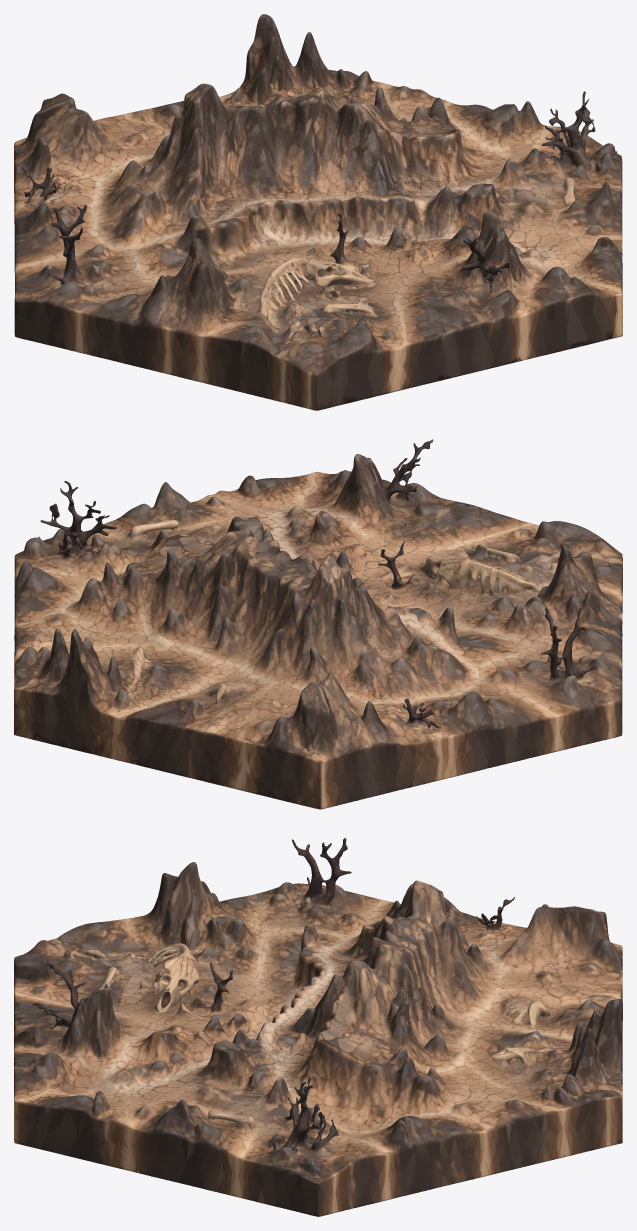
The model's file is Wasteland.fbx.
The picture shows the model from 3 angles, top to bottom: view 1: azimuth 30°, elevation 25°; view 2: azimuth 150°, elevation 25°; view 3: azimuth 270°, elevation 25°; orthographic projection.
Visible parts, largest first — view 1: Mesh_0; view 2: Mesh_0; view 3: Mesh_0.
Part boxes in pixels (x1=…): Mesh_0: x1=14, y1=14, x2=622, y2=410; Mesh_0: x1=14, y1=439, x2=622, y2=809; Mesh_0: x1=14, y1=838, x2=622, y2=1216.
Size of the model in its own units: 1.9 by 0.4693 by 1.64.
Materials: 1 (1 with a texture image).
